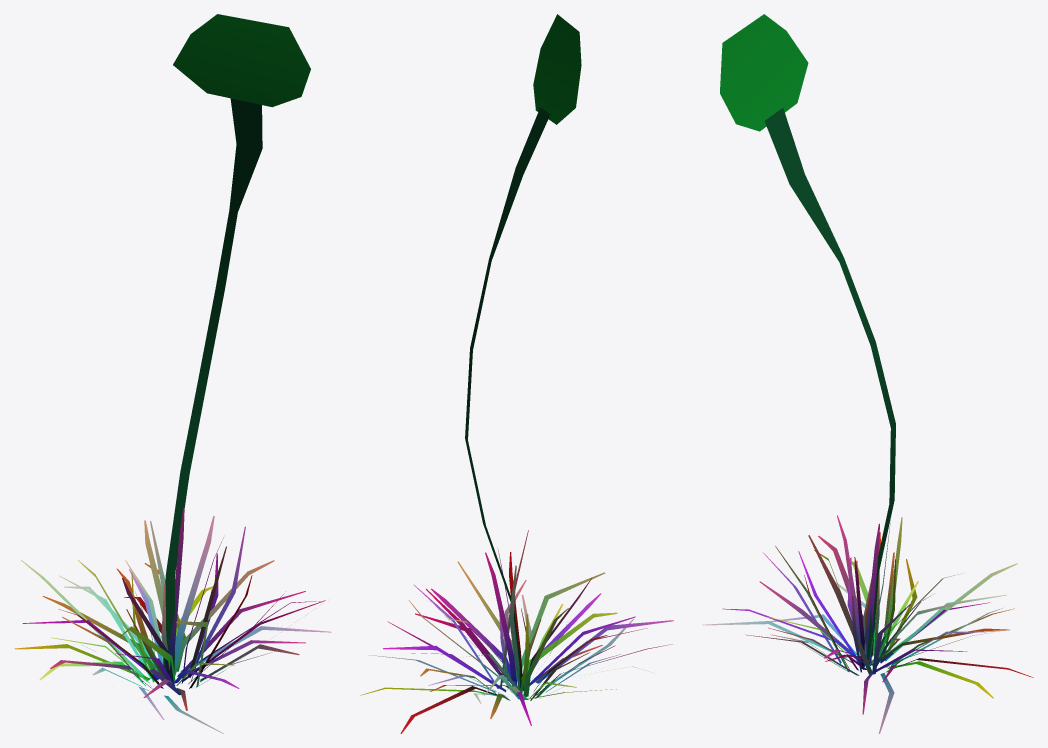
File: Sea_Thrift_vkbgaihha_Mid_vkbgaihha_VarB_LOD2.fbx
The picture shows the model from 3 angles, left to right: view 1: azimuth 30°, elevation 25°; view 2: azimuth 150°, elevation 25°; view 3: azimuth 270°, elevation 25°; orthographic projection. The views are drawn at different scales.
Visible parts, largest first — view 1: _rf52_VarB_LOD3; view 2: _rf52_VarB_LOD3; view 3: _rf52_VarB_LOD3.
Part boxes in pixels (<box>): _rf52_VarB_LOD3: <box>14,14,331,733</box>; _rf52_VarB_LOD3: <box>360,14,673,733</box>; _rf52_VarB_LOD3: <box>702,14,1033,733</box>.
Bounding box in the file's own units: 7.88 × 17.08 × 7.93.
